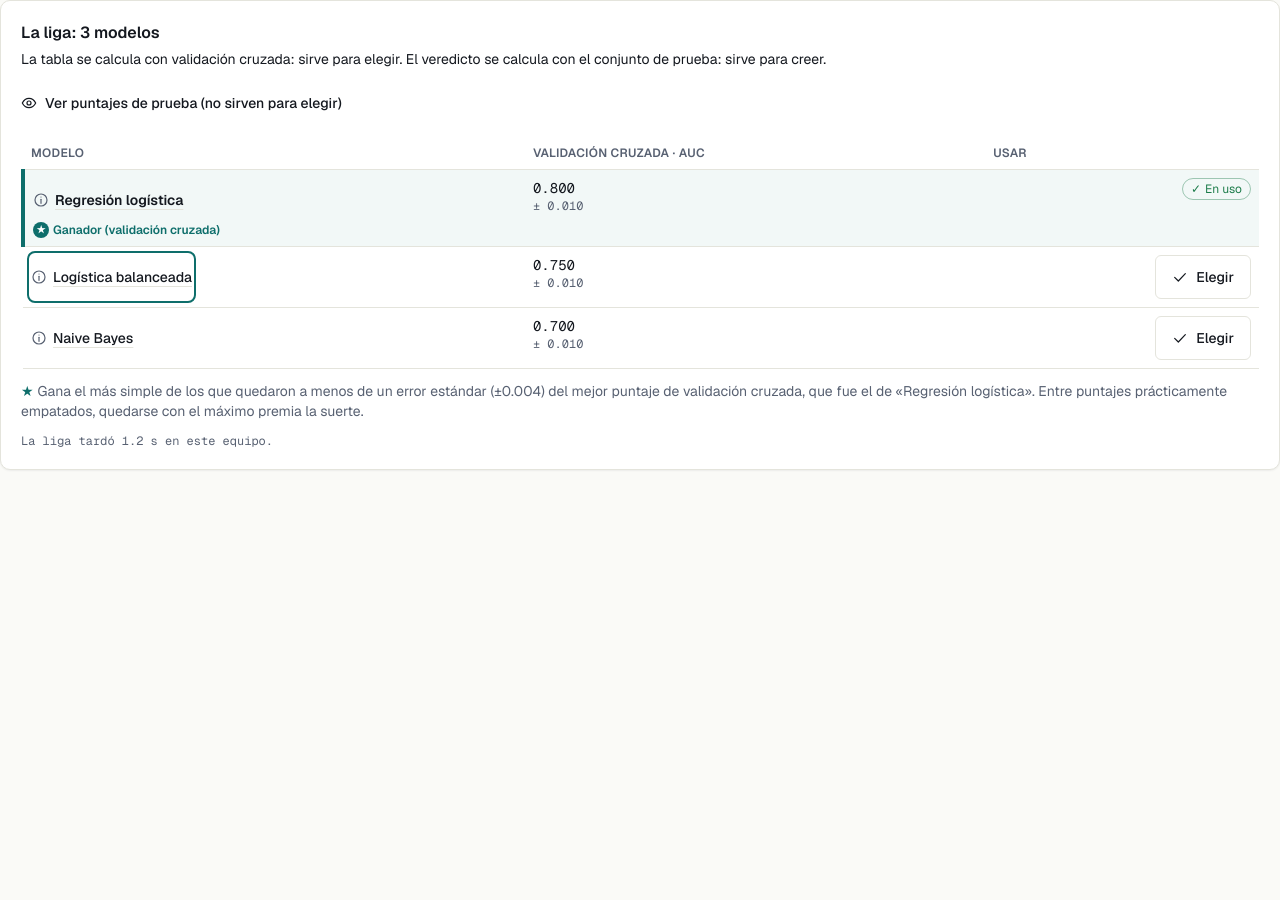
FichaModelo (E3) — desde la tabla de la liga › la variante balanceada usa la ficha de su base + su párrafo propio
What coordinates should you click on to do the following:
click the button "Logística balanceada"
I would click on:
 (112, 277)
Its box is x1=31 y1=255 x2=192 y2=299.
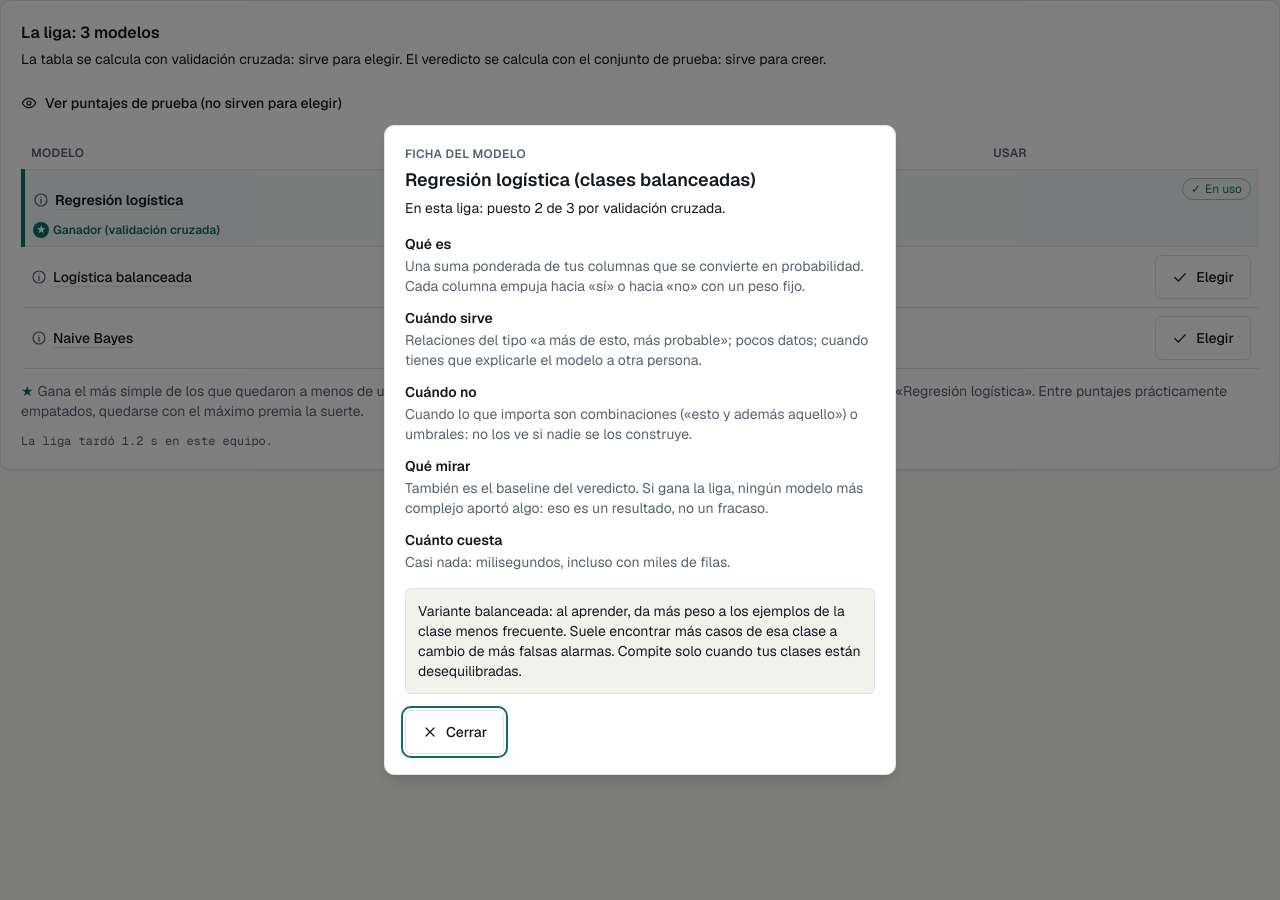
Expected: the dialog is shown, x1=384 y1=125 x2=896 y2=775
Expected: the text "Una suma ponderada de tus columnas que se convierte en probabilidad. Cada columna empuja hacia «sí» o hacia «no» con un " is shown, x1=405 y1=257 x2=864 y2=295
Expected: the text "Variante balanceada: al aprender, da más peso a los ejemplos de la clase menos frecuente. Suele encontrar más casos de e" is shown, x1=418 y1=602 x2=861 y2=680
